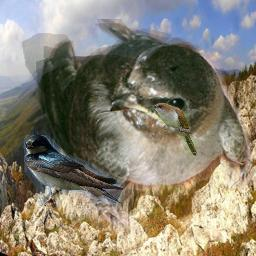Cuckoo: (147, 103, 197, 156)
Swallow: (8, 19, 253, 239), (24, 135, 125, 208)
